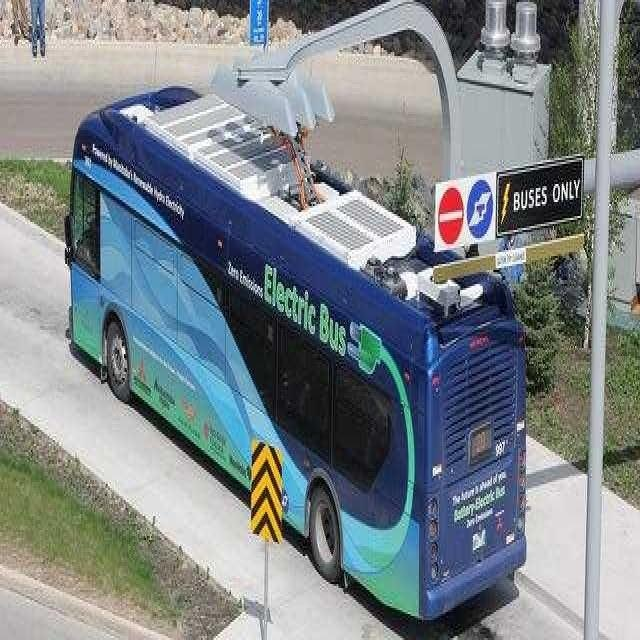Bus: (63, 72, 532, 632)
